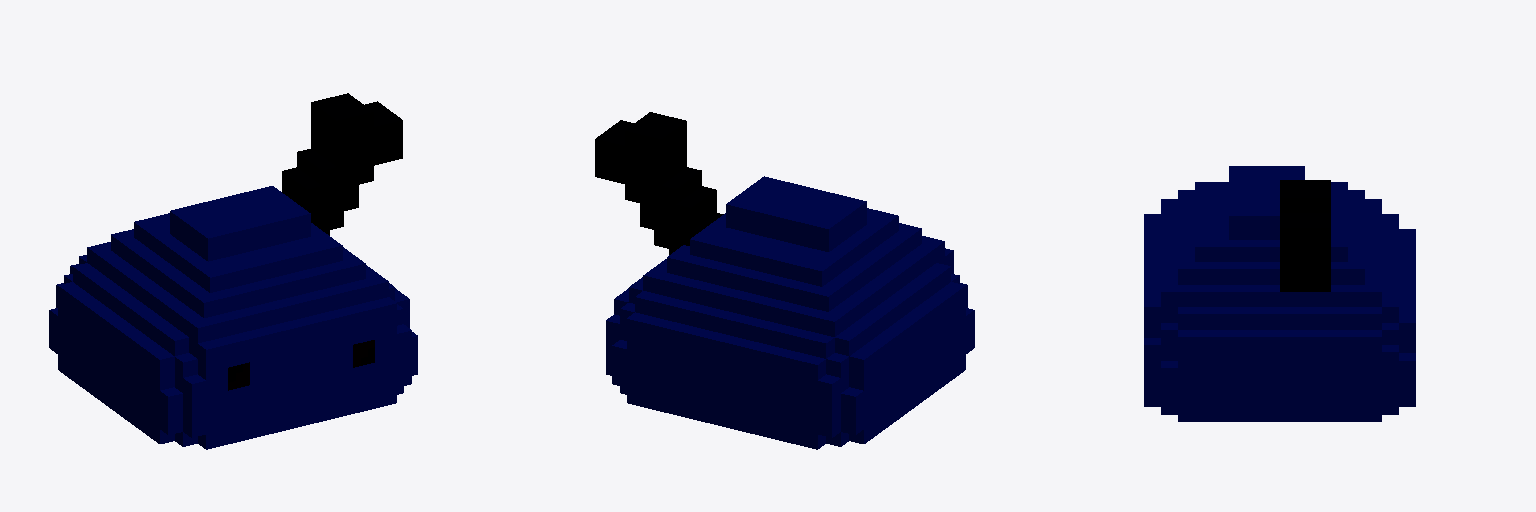
Rendered from Slime.obj.
3 renders of one model, left to right at view 1: azimuth 30°, elevation 25°; view 2: azimuth 150°, elevation 25°; view 3: azimuth 270°, elevation 25°, orthographic.
Visible parts, largest first — view 1: Cube.3350_Cube.3351; view 2: Cube.3350_Cube.3351; view 3: Cube.3350_Cube.3351.
Boxes of the visible parts, x1=… form: Cube.3350_Cube.3351: x1=49, y1=93, x2=417, y2=449; Cube.3350_Cube.3351: x1=595, y1=112, x2=974, y2=449; Cube.3350_Cube.3351: x1=1144, y1=166, x2=1415, y2=421.
Size of the model in its own units: 40 by 30 by 32.